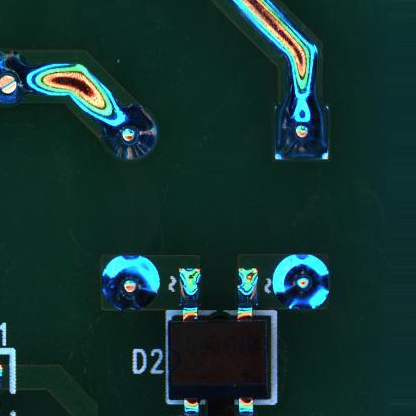spot: (271, 102, 331, 165), (99, 255, 160, 310), (272, 254, 333, 309), (100, 111, 157, 161)
